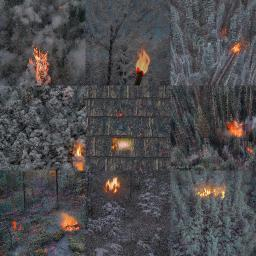Small fire: (26, 50, 59, 86), (193, 180, 235, 202), (132, 46, 154, 78), (57, 208, 84, 232), (226, 116, 249, 136), (110, 139, 141, 152), (71, 142, 84, 169), (230, 42, 240, 51)
